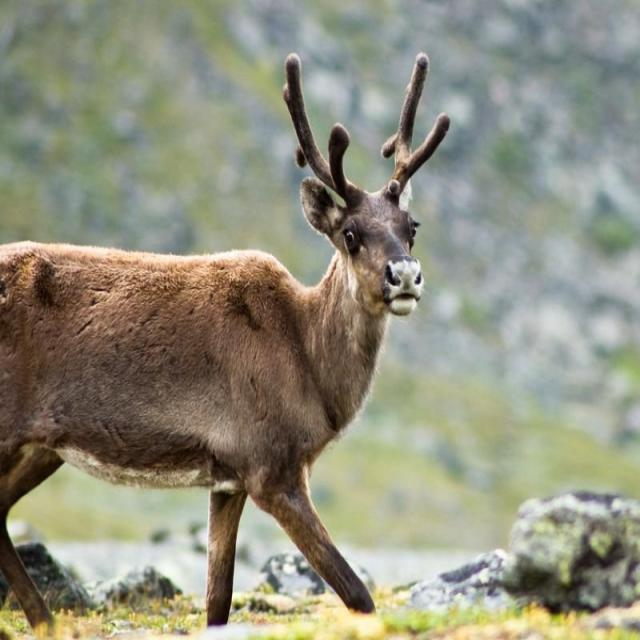reindeer: (1, 54, 449, 624)
